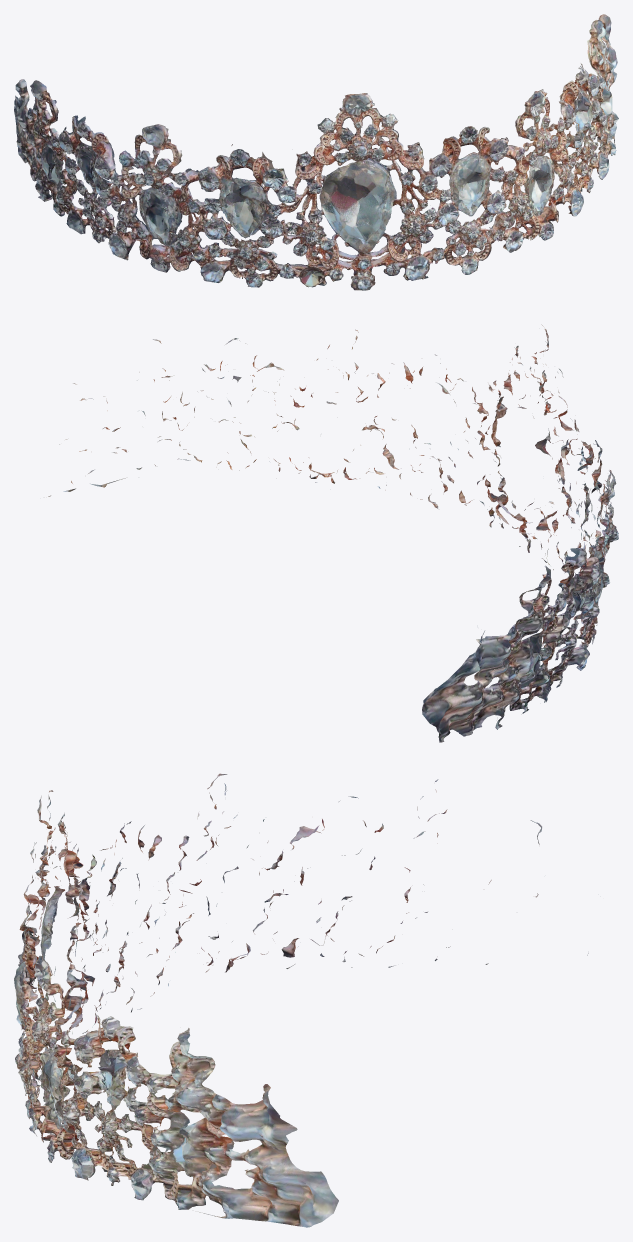
The model's file is corona2.glb.
The picture shows the model from 3 angles, top to bottom: view 1: azimuth 30°, elevation 25°; view 2: azimuth 150°, elevation 25°; view 3: azimuth 270°, elevation 25°; orthographic projection. The views are drawn at different scales.
Parts seen in each view (by area): view 1: b98cdb28-2b05-4f03-85b5-58539f496709; view 2: b98cdb28-2b05-4f03-85b5-58539f496709; view 3: b98cdb28-2b05-4f03-85b5-58539f496709.
Boxes of the visible parts, x1,y1,x2,y2 form: b98cdb28-2b05-4f03-85b5-58539f496709: (14,14,618,290); b98cdb28-2b05-4f03-85b5-58539f496709: (48,324,618,742); b98cdb28-2b05-4f03-85b5-58539f496709: (14,773,588,1227).
Bounding box in the file's own units: 1.25 × 0.4645 × 0.9733.
Materials: 1 (1 with a texture image).
